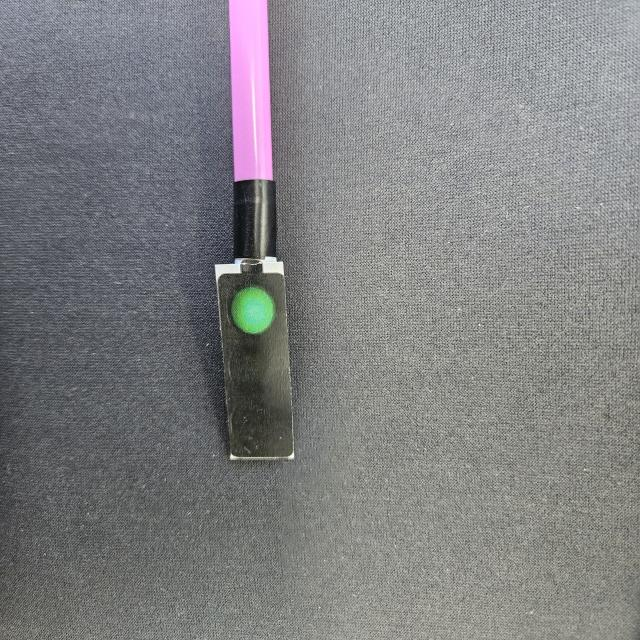traffic light: (216, 262, 295, 465)
